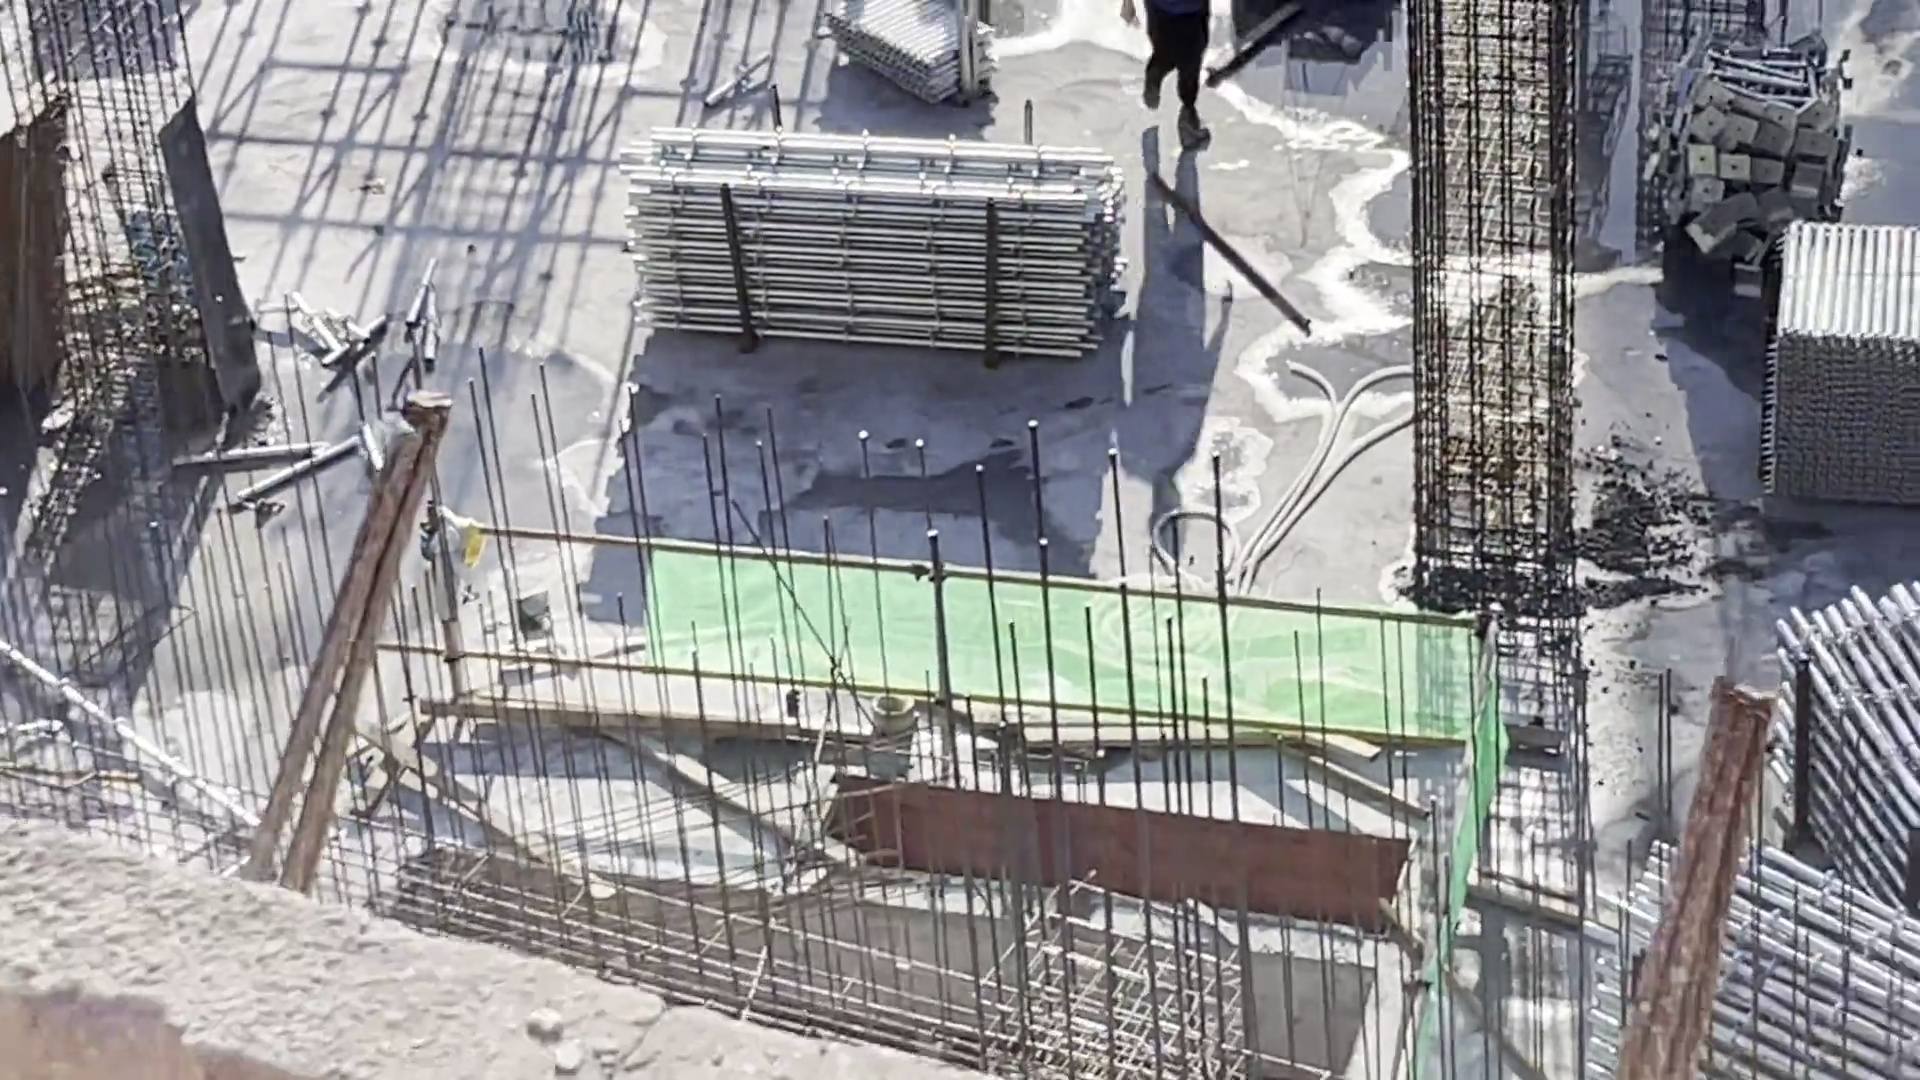person: (1110, 2, 1238, 148)
scaffold: (613, 118, 1137, 360), (1602, 822, 1910, 1080), (1765, 570, 1920, 920), (1758, 207, 1920, 516), (813, 7, 1005, 107)
